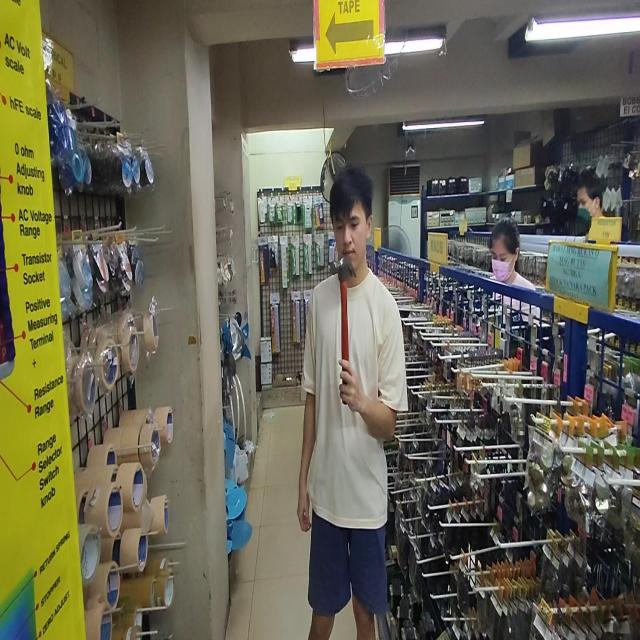hammer: (330, 256, 357, 407)
